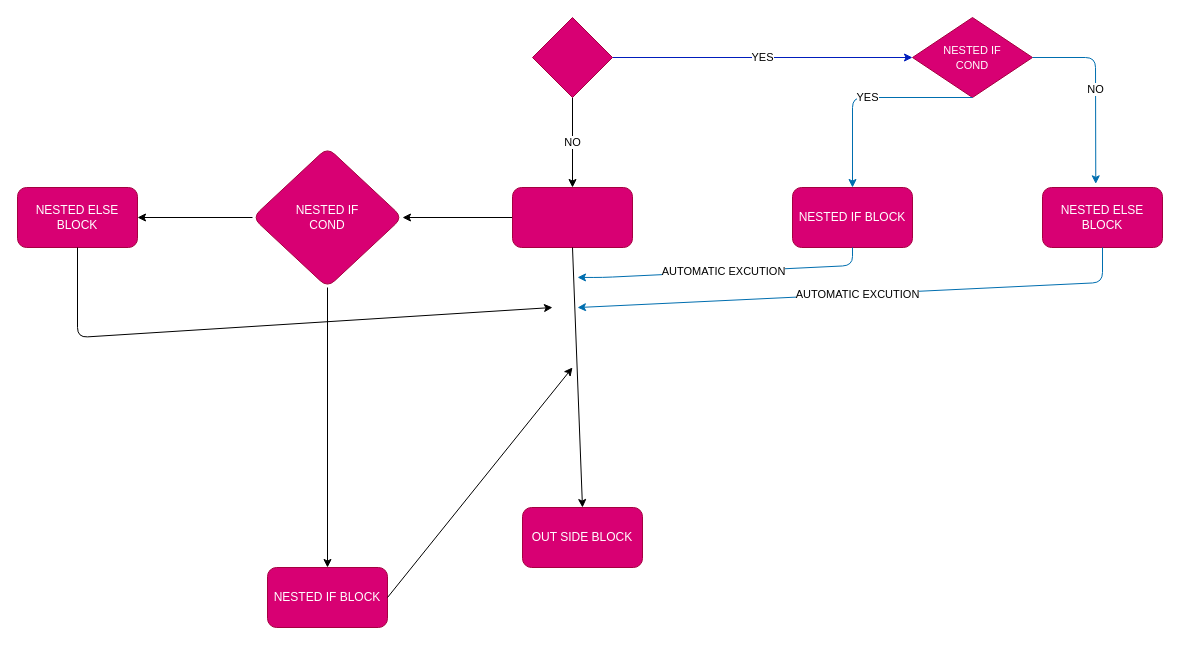
The diagram is 1180 pixels wide and 645 high, and some of its shapes have lost their labels. The centre of each missing label's shape, as x and y in pixels:
ELSE BLOCK: the point at 572,217
IF COND: the point at 572,57
